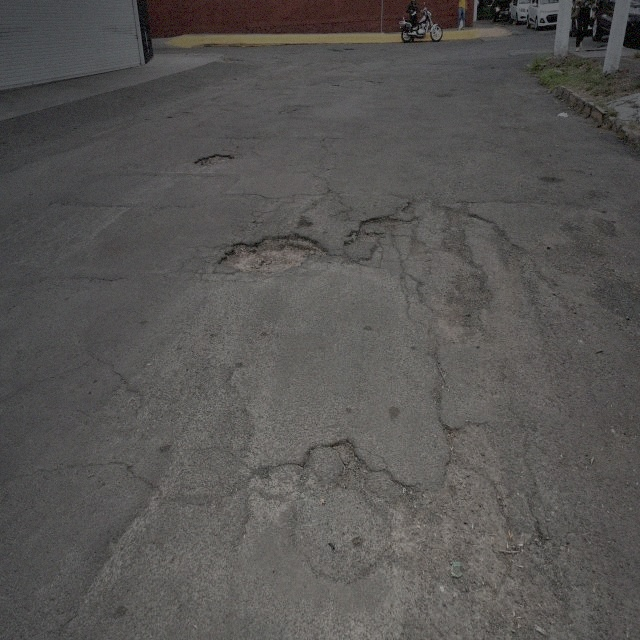pothole: (218, 231, 327, 272), (330, 433, 368, 500), (346, 214, 404, 242), (438, 422, 459, 458), (193, 150, 234, 168)
